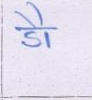e_matra: (26, 2, 48, 26)
